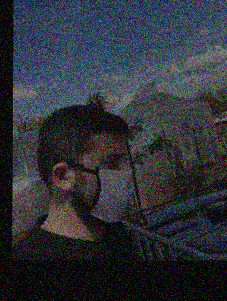with_mask: (86, 148, 133, 226)
